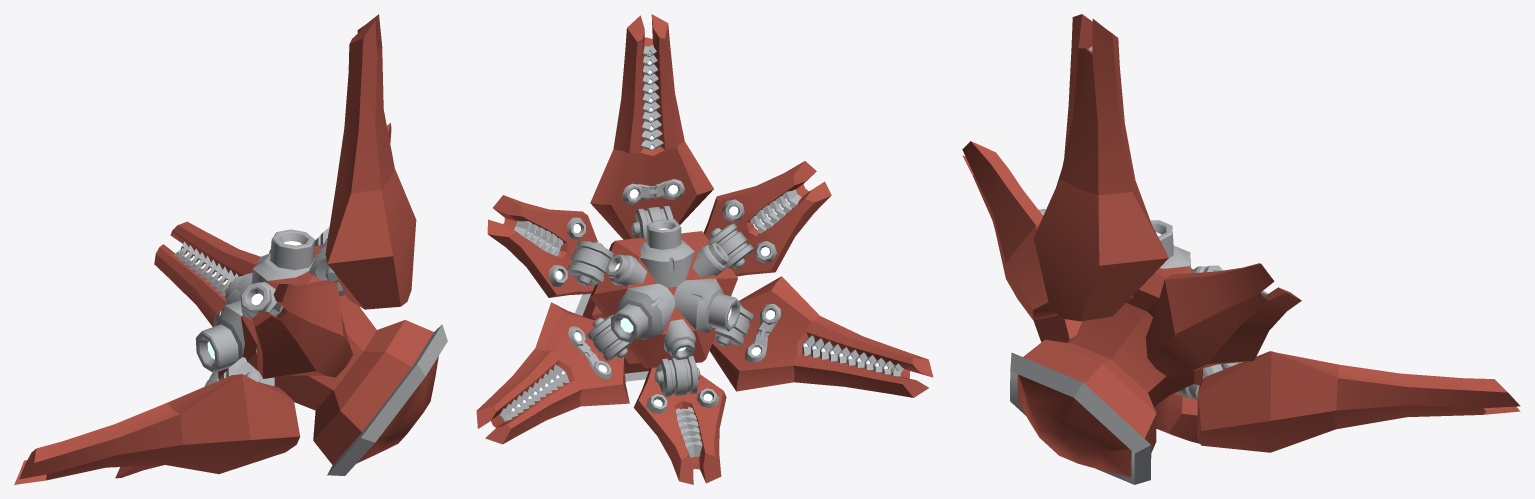
Rendered from Teleport_corner.fbx.
The picture shows the model from 3 angles, left to right: view 1: azimuth 30°, elevation 25°; view 2: azimuth 150°, elevation 25°; view 3: azimuth 270°, elevation 25°; orthographic projection. The views are drawn at different scales.
Parts seen in each view (by area): view 1: big fin.003, big fin.002, base.001, small fin.002, emitters.001, big fin.001; view 2: big fin.002, big fin.003, big fin.001, emitters.001, small fin.002, small fin.001, small fin.003, base.001; view 3: big fin.002, base.001, big fin.001, small fin.001, small fin.002, small fin.003, emitters.001, big fin.003.
Part boxes in pixels (<box>): big fin.003: <box>14,357,300,484</box>; big fin.002: <box>309,14,416,309</box>; base.001: <box>218,244,447,475</box>; small fin.002: <box>252,280,353,378</box>; emitters.001: <box>195,229,315,372</box>; big fin.001: <box>154,221,260,326</box>; big fin.002: <box>590,14,713,239</box>; big fin.003: <box>709,276,933,397</box>; big fin.001: <box>476,302,632,444</box>; emitters.001: <box>606,219,740,359</box>; small fin.002: <box>703,161,831,276</box>; small fin.001: <box>487,195,613,297</box>; small fin.003: <box>633,355,726,484</box>; base.001: <box>575,231,737,381</box>; big fin.002: <box>1033,14,1168,321</box>; base.001: <box>1010,266,1203,484</box>; big fin.001: <box>1197,351,1520,452</box>; small fin.001: <box>1145,263,1301,377</box>; small fin.002: <box>962,141,1057,320</box>; small fin.003: <box>1154,384,1199,443</box>; emitters.001: <box>1150,220,1223,272</box>; big fin.003: <box>1033,314,1081,343</box>.
Bounding box in the file's own units: 1469 × 1469 × 1469.
